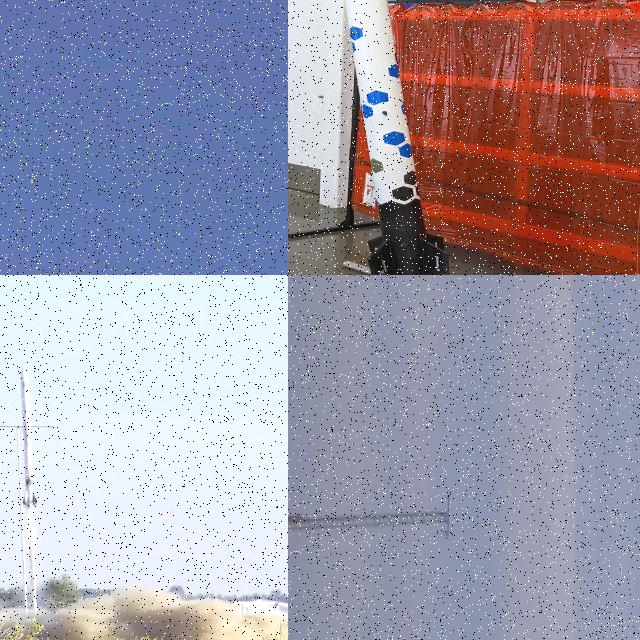Rocket: (344, 0, 450, 275), (19, 367, 39, 511), (288, 512, 307, 529)
